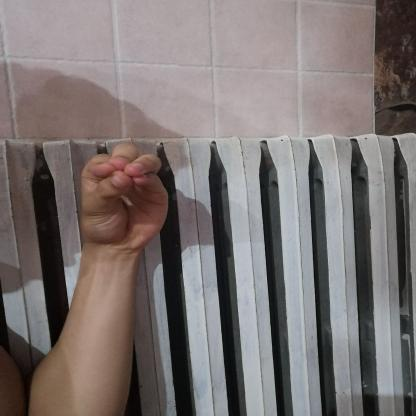HA: (63, 135, 181, 262)
